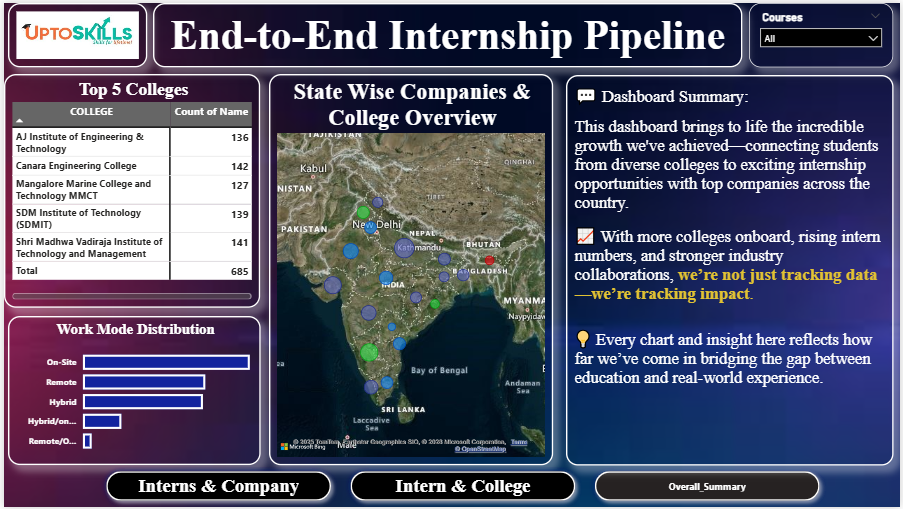

The dashboard page shown, as its layout file describes it:
{"tool":"powerbi","page":{"name":"Overall_Summary","canvas":[1280,720],"ordinal":2},"visuals":[{"type":"textbox","box":[213.5,0,842.1,91.7],"z":0},{"type":"map","title":"State Wise Companies & College Overview","fields":{"Category":["Final Intern Data.State"],"Size":["Count(Corporate Data.Company Name)"]},"box":[378.8,101.2,406.2,558.8],"z":1000},{"type":"slicer","fields":{"Values":["Final Intern Data.Course pursuing or completed"]},"box":[1064.1,0,206.3,91.7],"z":2000},{"type":"pivotTable","title":"Top 5 Colleges","fields":{"Rows":["College_data.COLLEGE"],"Values":["Count(Final Intern Data.Name)"]},"box":[0,101.2,366.2,333.8],"z":3000},{"type":"clusteredBarChart","title":"Work Mode Distribution","fields":{"Category":["Corporate Data.Work Mode"],"Y":["CountNonNull(Final Intern Data.Name)"]},"box":[6.1,446.6,360.7,213.5],"z":4000},{"type":"pageNavigator","box":[137.4,660.1,1039.3,60.1],"z":5000},{"type":"textbox","box":[802.5,102.5,467.5,557.5],"z":6000},{"type":"image","box":[6,0,199.1,91.7],"z":7000}]}

Visuals, with their boxes in screenshot pixels (x1, y1, x2, y2), scaled from the page's 1280x720 canvas onto the 903x509 screenshot:
textbox: 151,0,745,65
"State Wise Companies & College Overview" map: 267,72,554,467
slicer - Final Intern Data.Course pursuing or completed: 751,0,896,65
"Top 5 Colleges" pivotTable: 0,72,258,308
"Work Mode Distribution" clusteredBarChart: 4,316,259,467
pageNavigator: 97,467,830,508
textbox: 566,72,896,467
image: 4,0,145,65
